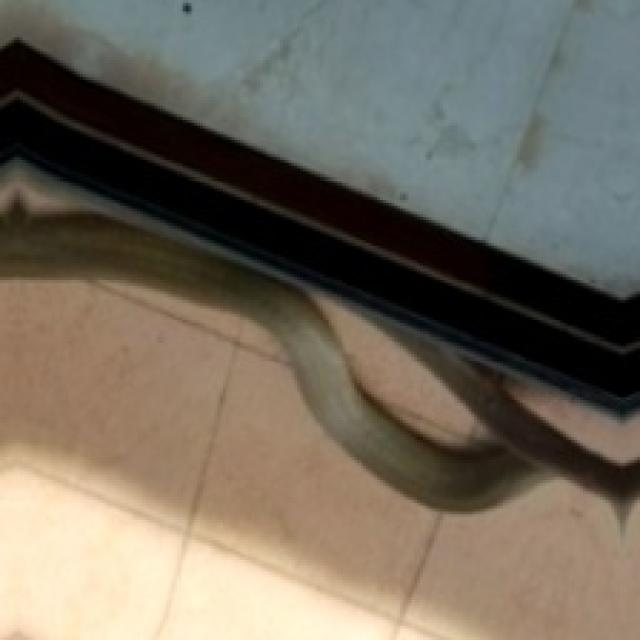king cobra: (0, 166, 637, 637)
